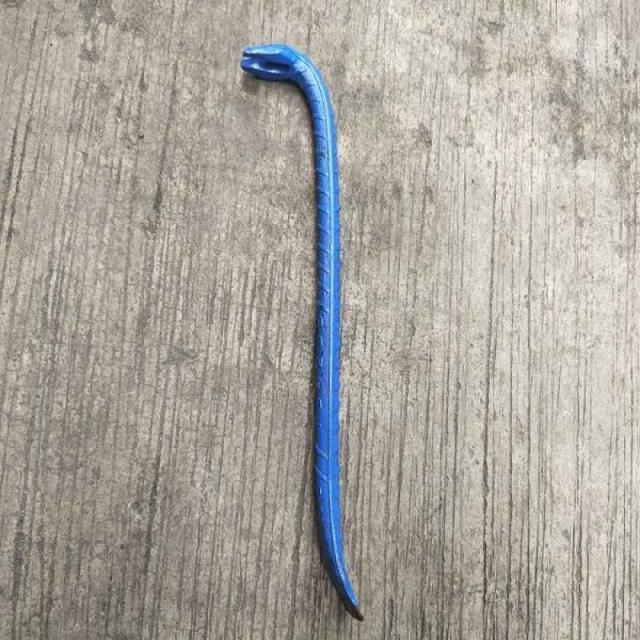Linggis: (220, 37, 382, 624)
